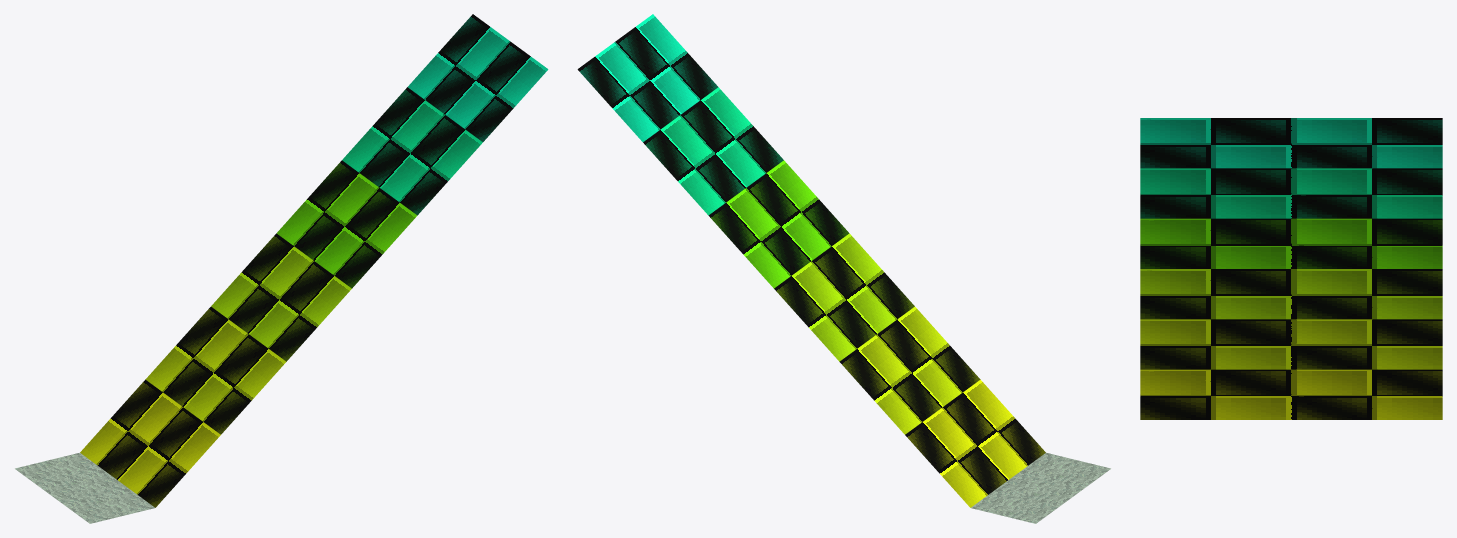
The model's file is km3_dan4.glb.
3 views of the same model, side by side, from view 1: azimuth 30°, elevation 25°; view 2: azimuth 150°, elevation 25°; view 3: azimuth 270°, elevation 25° (orthographic). The views are drawn at different scales.
Parts seen in each view (by area): view 1: km3_dan4; view 2: km3_dan4; view 3: km3_dan4.
Part boxes in pixels (<box>): km3_dan4: <box>15,14,548,523</box>; km3_dan4: <box>577,14,1110,523</box>; km3_dan4: <box>1140,118,1442,419</box>.
Bounding box in the file's own units: 262 × 188 × 75.
2 materials, 2 textured.
